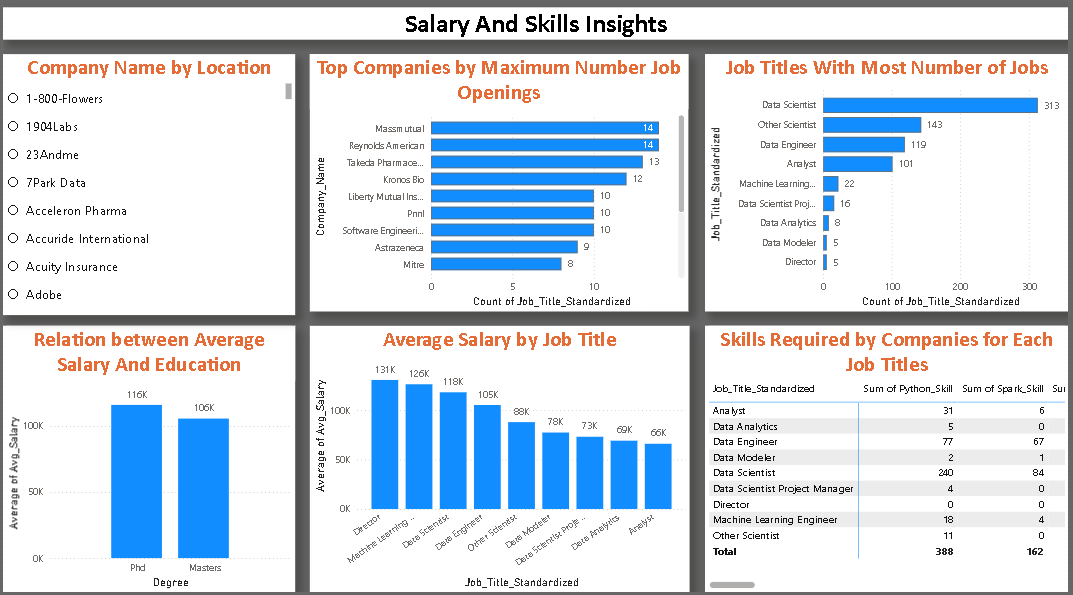

The dashboard page shown, as its layout file describes it:
{"tool":"powerbi","page":{"name":"Task 3","canvas":[1366,768],"ordinal":1},"visuals":[{"type":"clusteredBarChart","title":"Top Companies by Maximum Number Job Openings","fields":{"Category":["Cleaned_Data.Company_Name"],"Y":["CountNonNull(Cleaned_Data.Job_Title_Standardized)"]},"box":[393.3,78.3,485,330],"z":0},{"type":"clusteredBarChart","title":"Job Titles With Most Number of Jobs","fields":{"Category":["Cleaned_Data.Job_Title_Standardized"],"Y":["CountNonNull(Cleaned_Data.Job_Title_Standardized)"]},"box":[900,78.3,466.7,330],"z":1000},{"type":"clusteredColumnChart","title":"Average Salary by Job Title ","fields":{"Category":["Cleaned_Data.Job_Title_Standardized"],"Y":["Avg(Cleaned_Data.Avg_Salary)"]},"box":[393.3,426.7,486.7,341.7],"z":2000},{"type":"pivotTable","title":"Skills Required by Companies for Each Job Titles","fields":{"Values":["Sum(Cleaned_Data.Python_Skill)","Sum(Cleaned_Data.Spark_Skill)","Sum(Cleaned_Data.AWS_Cloud_Skill)","Sum(Cleaned_Data.Execl_Skill)","Sum(Cleaned_Data.SQL_Skill)","Sum(Cleaned_Data.SAS_Skill)","Sum(Cleaned_Data.Keras_Skill)","Sum(Cleaned_Data.Pytorch_Skill)","Sum(Cleaned_Data.Scikit_Skill)","Sum(Cleaned_Data.Tensor_Skill)","Sum(Cleaned_Data.Hadoop_Skill)","Sum(Cleaned_Data.Tableau_Skill)"],"Rows":["Cleaned_Data.Job_Title_Standardized"]},"box":[900,426.7,466.7,341.7],"z":3000},{"type":"clusteredColumnChart","title":"Relation between Average Salary And  Education ","fields":{"Category":["Cleaned_Data.Degree"],"Y":["Avg(Cleaned_Data.Avg_Salary)"]},"box":[0,426.7,375,341.7],"z":4000},{"type":"listSlicer","title":"Company Name by Location","fields":{"Values":["Cleaned_Data.Company_Name"]},"box":[0,78.3,375,335],"z":5000},{"type":"textbox","title":"Salary And Skills Insights","box":[0,18.3,1366.7,41.7],"z":6000}]}

Visuals, with their boxes in screenshot pixels (x1, y1, x2, y2), scaled from the page's 1366x768 canvas onto the 1073x595 screenshot:
"Top Companies by Maximum Number Job Openings" clusteredBarChart: (309,61,690,316)
"Job Titles With Most Number of Jobs" clusteredBarChart: (707,61,1072,316)
"Average Salary by Job Title " clusteredColumnChart: (309,331,691,594)
"Skills Required by Companies for Each Job Titles" pivotTable: (707,331,1072,594)
"Relation between Average Salary And  Education " clusteredColumnChart: (0,331,295,594)
"Company Name by Location" listSlicer: (0,61,295,320)
"Salary And Skills Insights" textbox: (0,14,1072,46)
